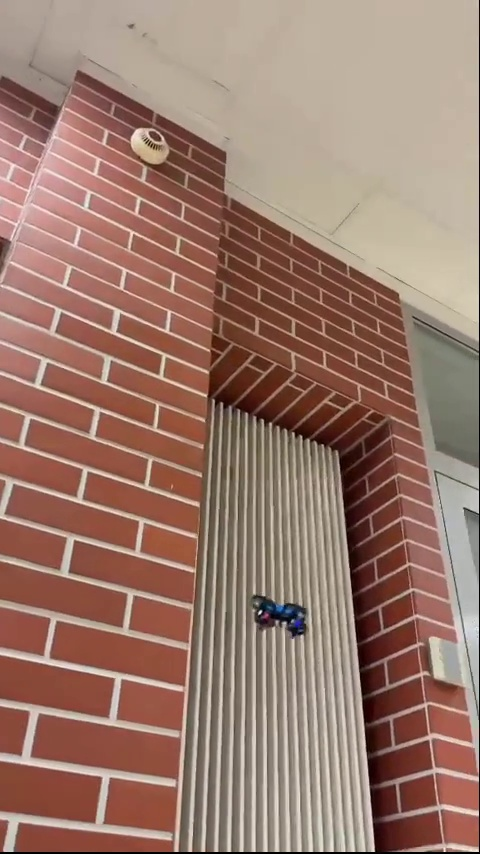drone: (249, 595, 305, 636)
